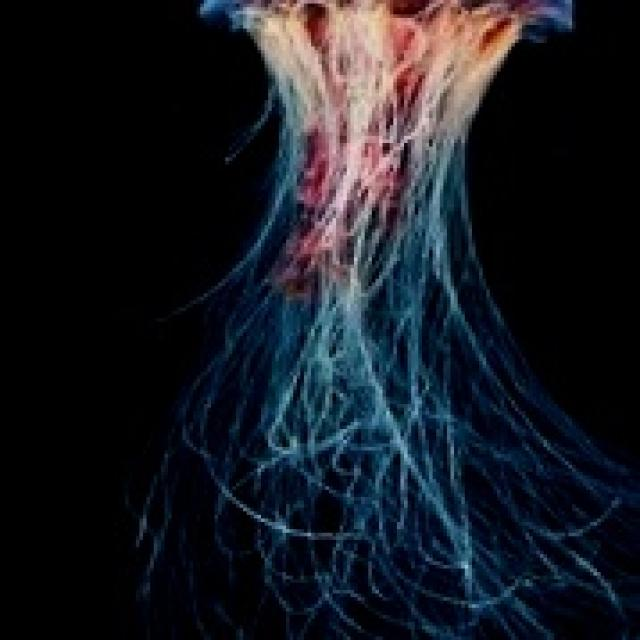Box-jellyfish: (125, 2, 637, 639)
